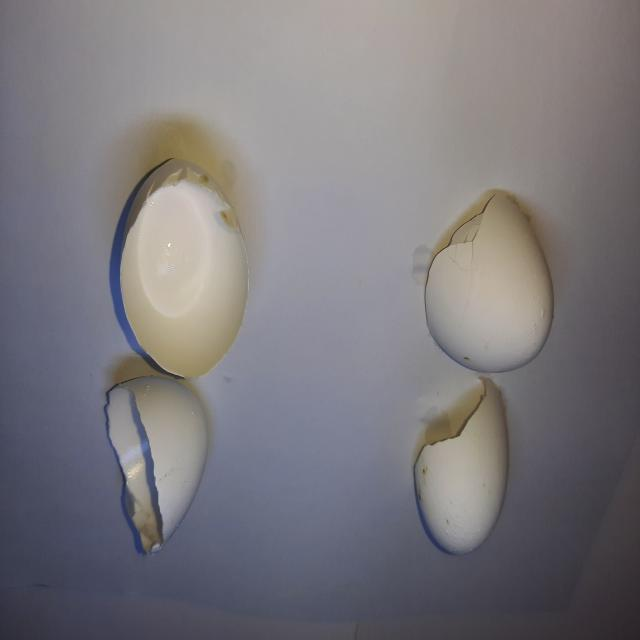egg shell: (114, 148, 252, 384), (419, 182, 563, 382), (100, 370, 214, 564), (407, 377, 513, 565)
